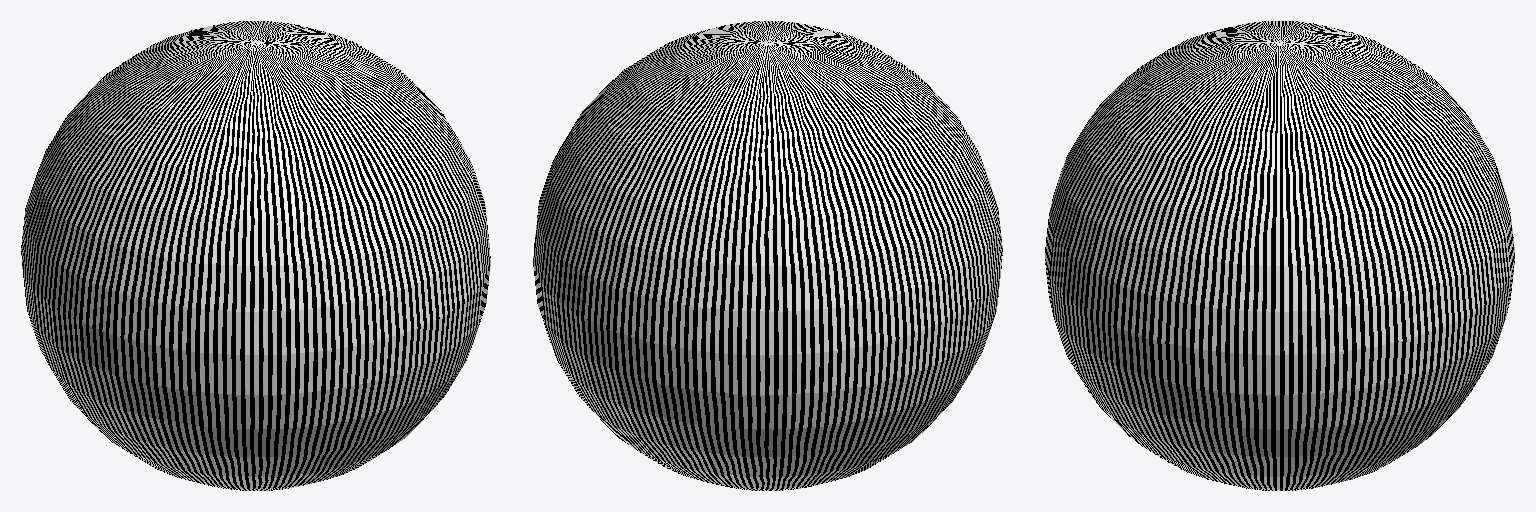
3 renders of one model, left to right at view 1: azimuth 30°, elevation 25°; view 2: azimuth 150°, elevation 25°; view 3: azimuth 270°, elevation 25°, orthographic.
Visible parts, largest first — view 1: Sphere; view 2: Sphere; view 3: Sphere.
Boxes of the visible parts, <box> form: Sphere: <box>21,21,490,490</box>; Sphere: <box>533,21,1002,490</box>; Sphere: <box>1045,21,1514,490</box>.
Bounding box in the file's own units: 3.68 × 3.68 × 3.68.
1 materials, 1 textured.